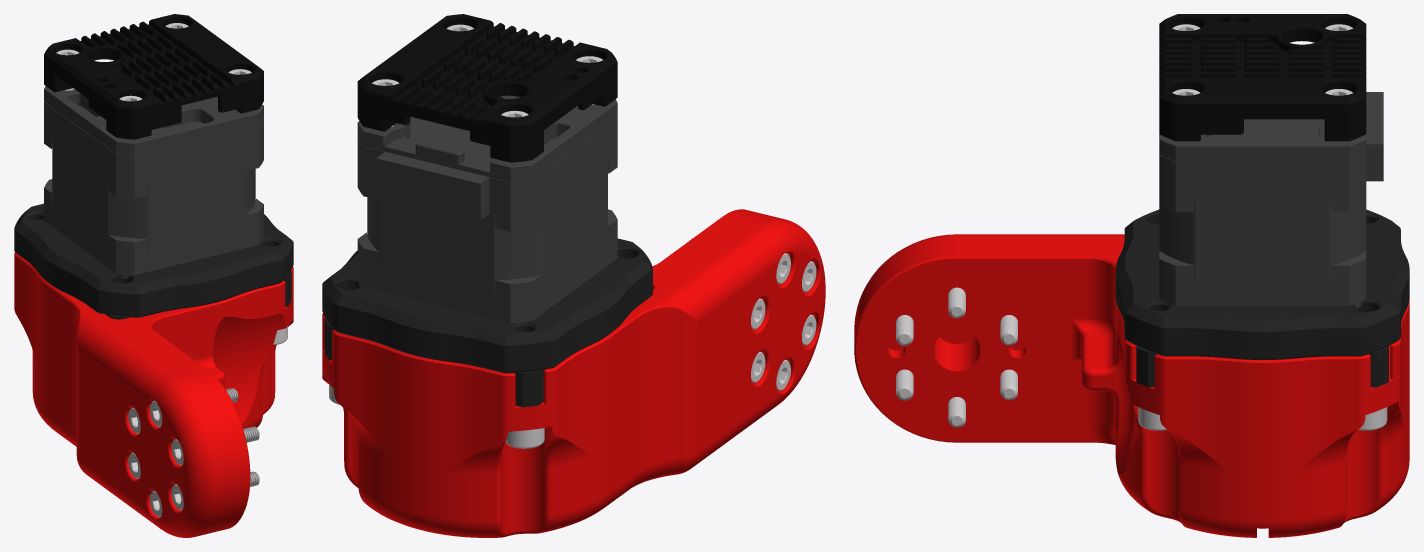
3 renders of one model, left to right at view 1: azimuth 30°, elevation 25°; view 2: azimuth 150°, elevation 25°; view 3: azimuth 270°, elevation 25°, orthographic. The views are drawn at different scales.
Parts seen in each view (by area): view 1: J4; view 2: J4; view 3: J4.
Boxes of the visible parts, x1=… form: J4: x1=14, y1=14, x2=293, y2=537; J4: x1=322, y1=14, x2=825, y2=537; J4: x1=854, y1=14, x2=1409, y2=537.
Bounding box in the file's own units: 0.055 × 0.0945 × 0.0808.
